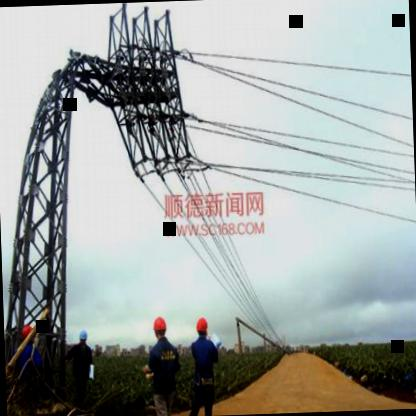helmet: (151, 314, 170, 342), (20, 324, 40, 348), (193, 316, 209, 341), (74, 326, 90, 347)
